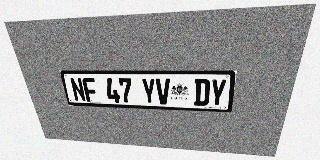4: (104, 78, 121, 103)
7: (118, 78, 134, 103)
D: (194, 79, 210, 106)
F: (82, 78, 99, 102)
N: (69, 78, 86, 102)
V: (155, 78, 170, 105)
Y: (209, 79, 227, 106), (141, 78, 156, 104)
